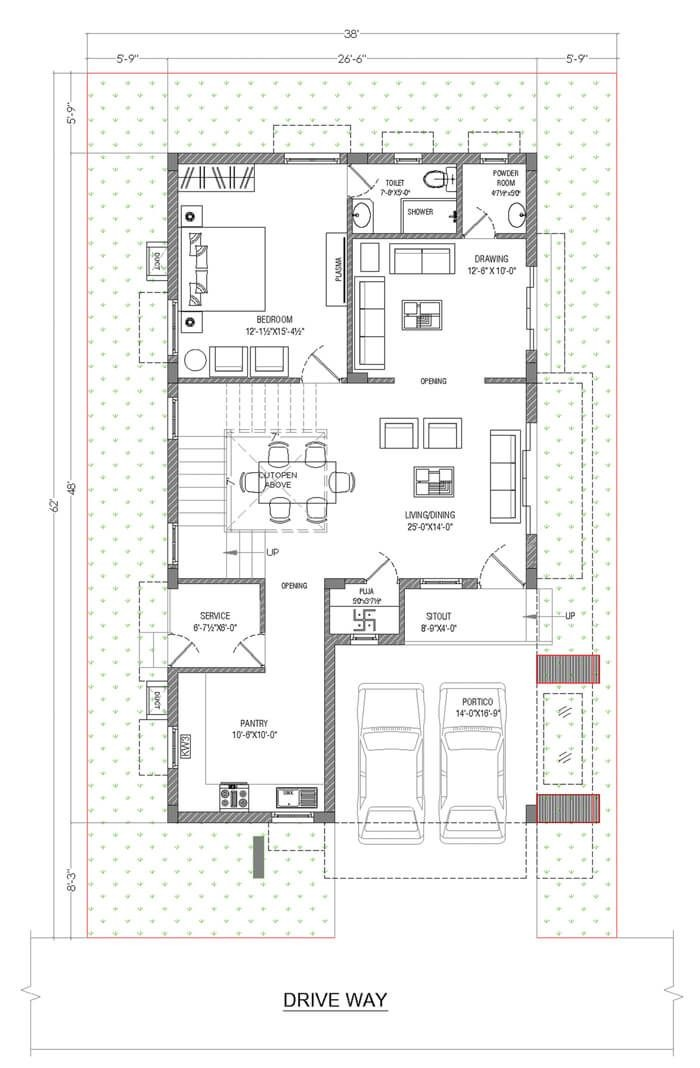door: (474, 535, 525, 590), (297, 338, 348, 388), (350, 547, 400, 587), (162, 627, 204, 666), (463, 201, 499, 240), (230, 625, 262, 665)
room: (172, 379, 532, 581), (331, 635, 586, 824), (167, 152, 346, 377), (348, 232, 535, 376), (167, 667, 331, 819), (400, 580, 556, 646), (166, 578, 270, 673), (347, 152, 457, 236), (265, 579, 330, 670), (461, 151, 526, 238), (324, 578, 405, 645)
wall: (316, 571, 343, 829), (339, 195, 361, 382), (161, 145, 288, 175), (162, 149, 182, 301), (155, 436, 188, 526), (522, 146, 544, 274), (166, 571, 271, 596), (158, 808, 273, 828), (157, 660, 270, 680), (520, 349, 548, 425), (345, 227, 467, 243), (161, 375, 308, 388), (157, 767, 186, 827), (514, 533, 542, 591), (450, 150, 467, 242), (394, 576, 414, 653), (248, 575, 273, 634), (479, 367, 537, 392), (418, 148, 482, 169), (165, 664, 185, 730), (340, 148, 396, 167), (165, 354, 187, 400), (378, 623, 411, 652), (312, 628, 352, 649), (363, 372, 400, 390)
window: (519, 263, 546, 352), (158, 297, 185, 359), (283, 144, 341, 171), (156, 522, 189, 567), (157, 723, 187, 766), (160, 394, 186, 440), (422, 572, 462, 597), (482, 144, 511, 172), (392, 147, 428, 169), (349, 626, 377, 652)
